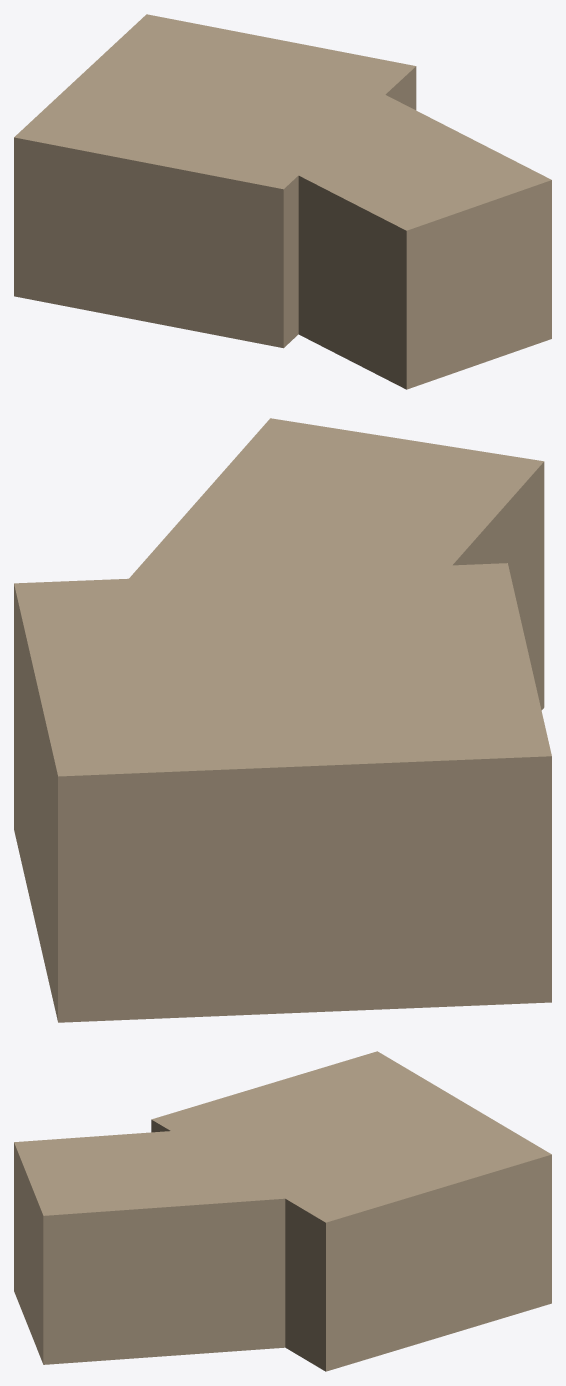
Rendered from bld_108400921.dae.
3 renders of one model, top to bottom at view 1: azimuth 30°, elevation 25°; view 2: azimuth 150°, elevation 25°; view 3: azimuth 270°, elevation 25°, orthographic. The views are drawn at different scales.
Parts seen in each view (by area): view 1: bld_108400921; view 2: bld_108400921; view 3: bld_108400921.
Part boxes in pixels (x1=…): bld_108400921: x1=14, y1=14, x2=551, y2=389; bld_108400921: x1=14, y1=418, x2=551, y2=1022; bld_108400921: x1=14, y1=1051, x2=551, y2=1371.
Size of the model in its own units: 19.74 by 26.17 by 8.
